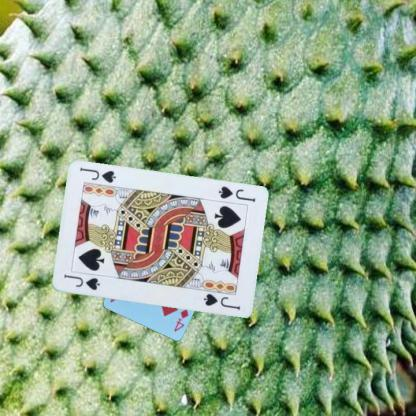4d: (171, 306, 190, 333)
Js: (61, 271, 101, 292), (215, 184, 256, 203)
